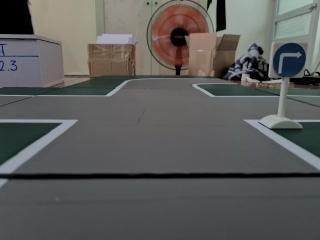right: (270, 39, 309, 80)
